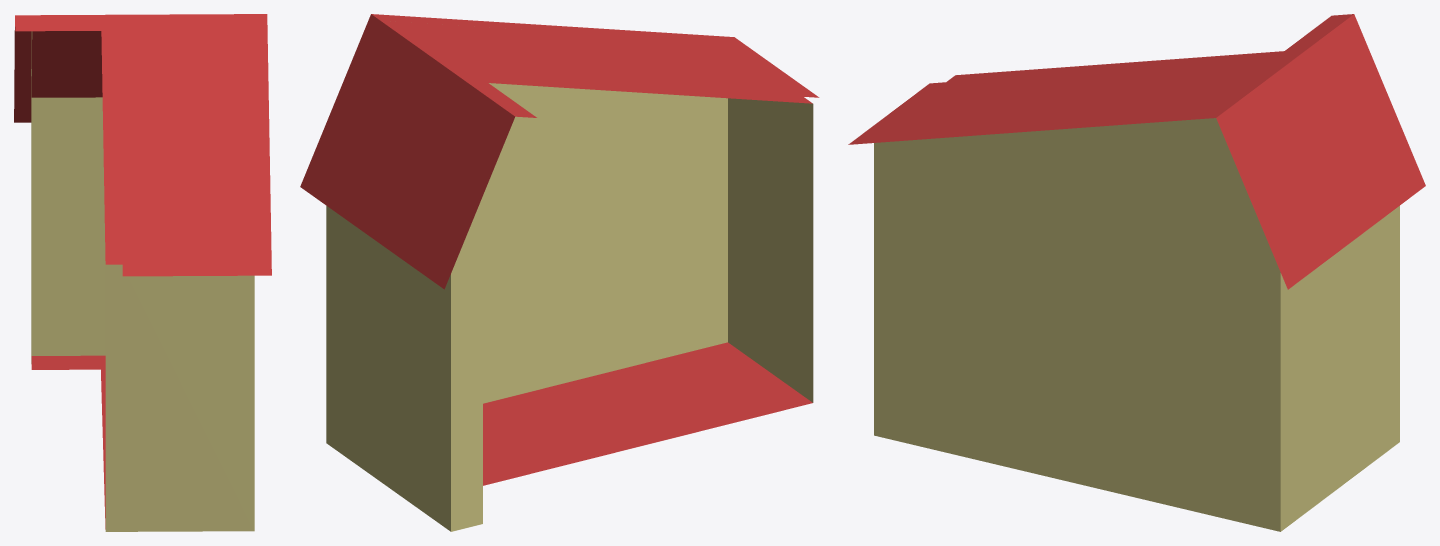
3 renders of one model, left to right at view 1: azimuth 30°, elevation 25°; view 2: azimuth 150°, elevation 25°; view 3: azimuth 270°, elevation 25°, orthographic. The views are drawn at different scales.
Size of the model in its own units: 10.52 by 15.22 by 11.85.
